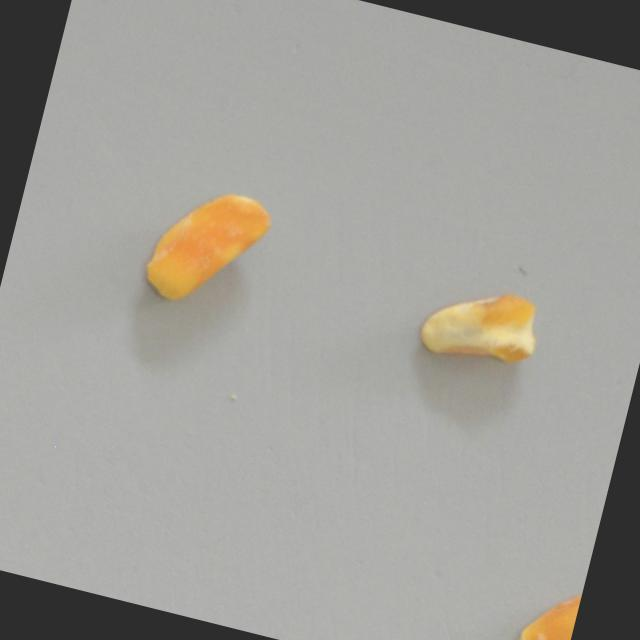dañado: (129, 173, 285, 330), (403, 256, 555, 397), (514, 574, 583, 640)
